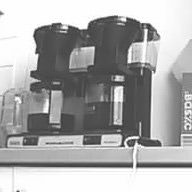not empty coffee: (79, 69, 142, 133)
